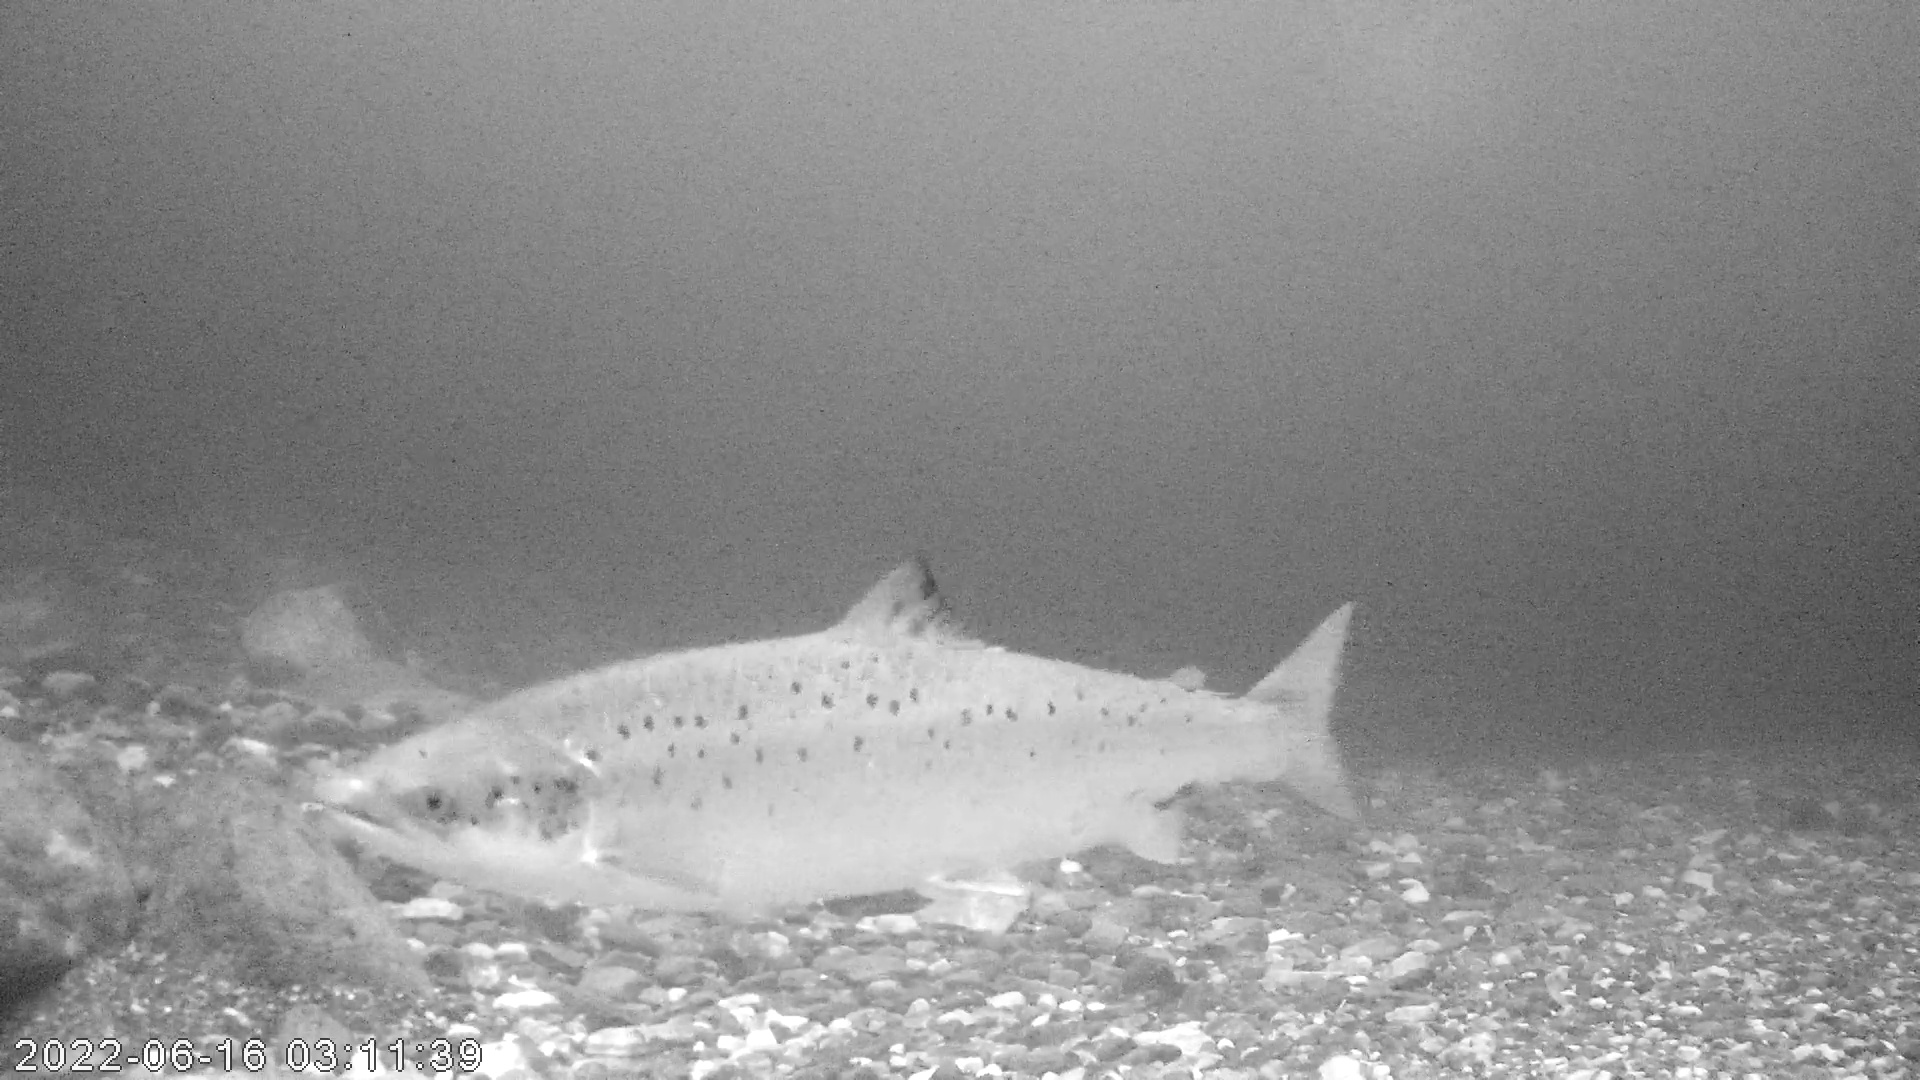salmon: (315, 545, 1358, 915)
